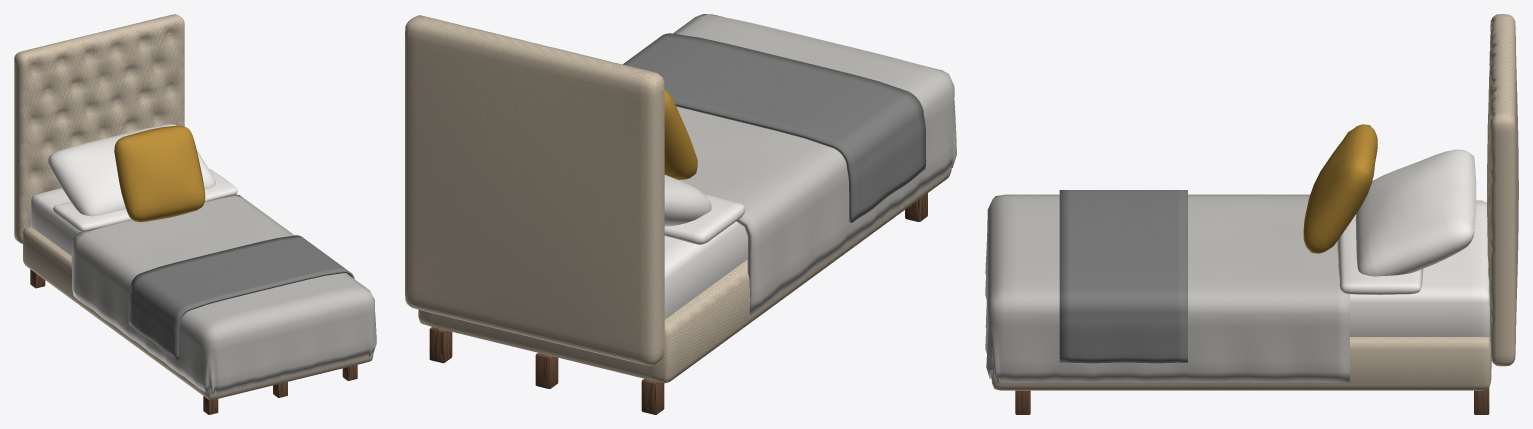
Rendered from cama_capitone_90.glb.
3 views of the same model, side by side, from view 1: azimuth 30°, elevation 25°; view 2: azimuth 150°, elevation 25°; view 3: azimuth 270°, elevation 25° (orthographic). The views are drawn at different scales.
Parts seen in each view (by area): view 1: cama_capitone_90; view 2: cama_capitone_90; view 3: cama_capitone_90.
Part boxes in pixels (x1,y1,x2,y2): cama_capitone_90: (14,14,376,414); cama_capitone_90: (405,14,956,414); cama_capitone_90: (985,14,1518,414).
Size of the model in its own units: 1.08 by 1.31 by 2.08.
Materials: 6 (6 with a texture image).
